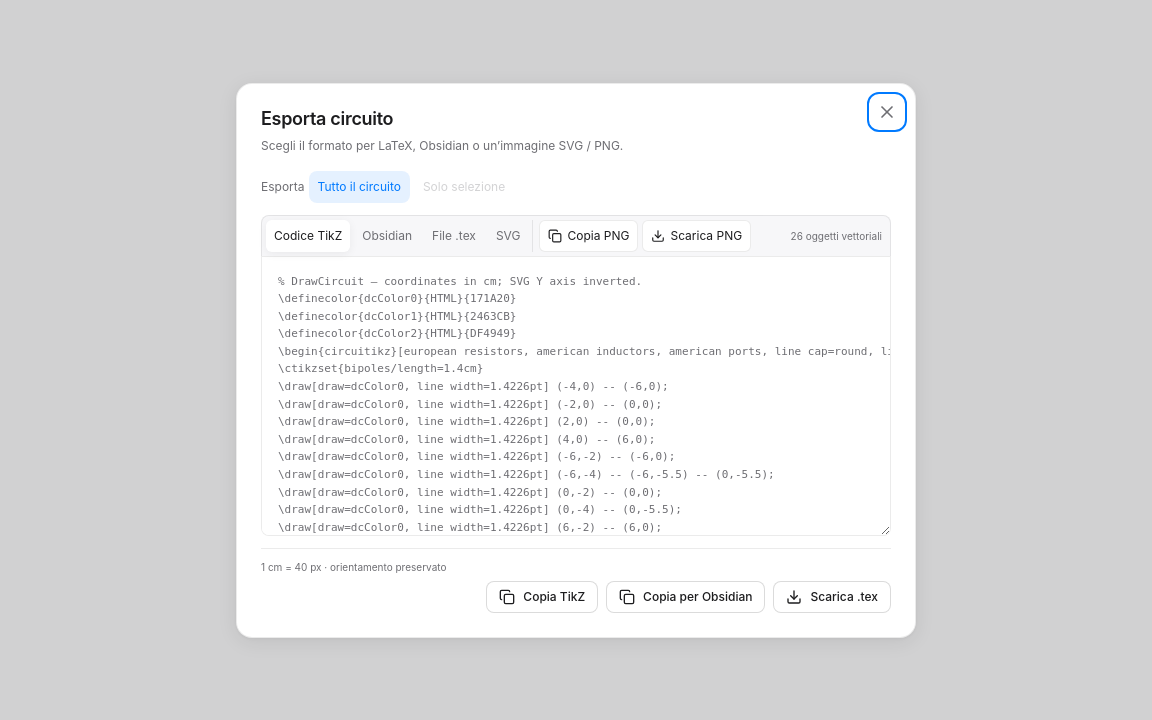
Test: Obsidian copy in the existing export dialog › copies the entire Obsidian Markdown block and shows consistent success feedback
This screenshot has width=1152, height=720.
What coordinates should you click on to do the following:
click the button "Copia per Obsidian"
I would click on:
 (686, 596)
Its box is [606,580,766,612].
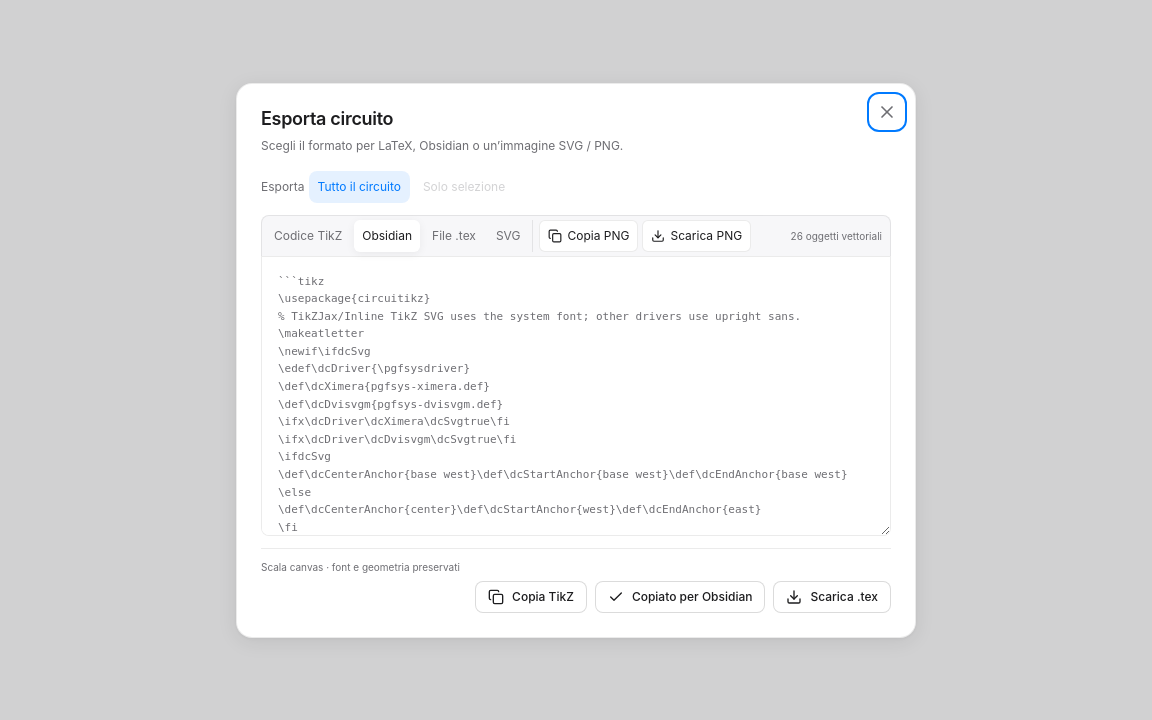
Result: the button "Copiato per Obsidian" is shown at [595,580,766,612]
